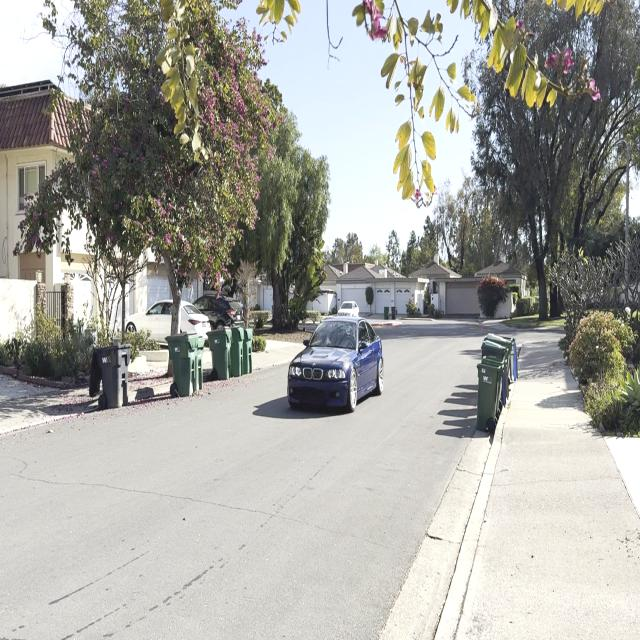Carbeetle: (284, 304, 388, 422)
